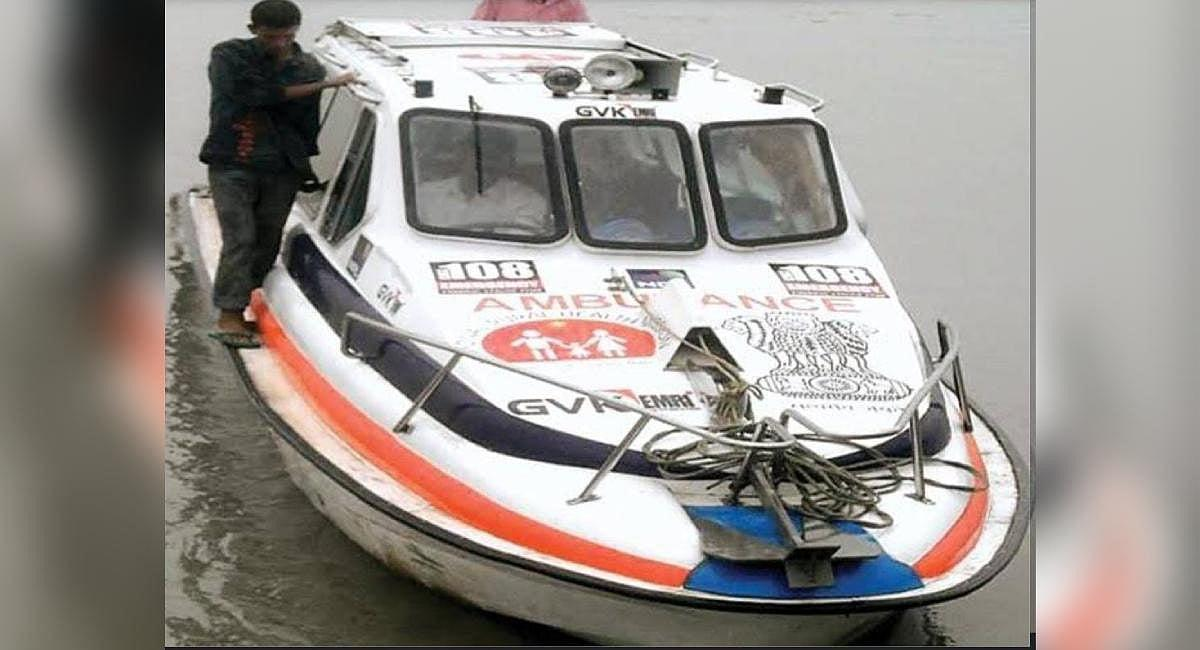ambulance: (275, 3, 1022, 650)
